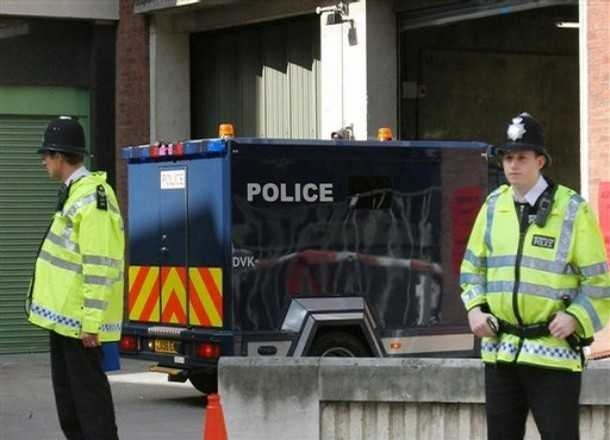Police Van: (88, 112, 546, 354)
